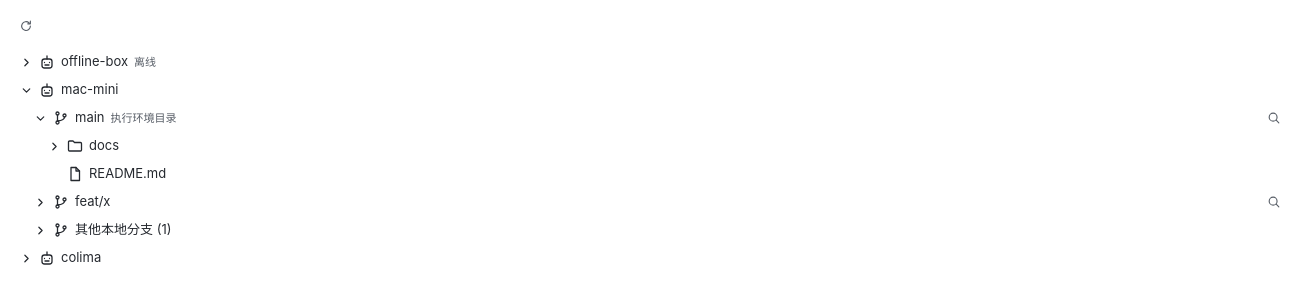
an offline worker can be expanded but is never queried
The image size is (1292, 308).
Expected: the text "README.md" is shown, [89,164,166,184]
Click the button "offline-box 离线": [95, 61] box [12,48,1288,76]
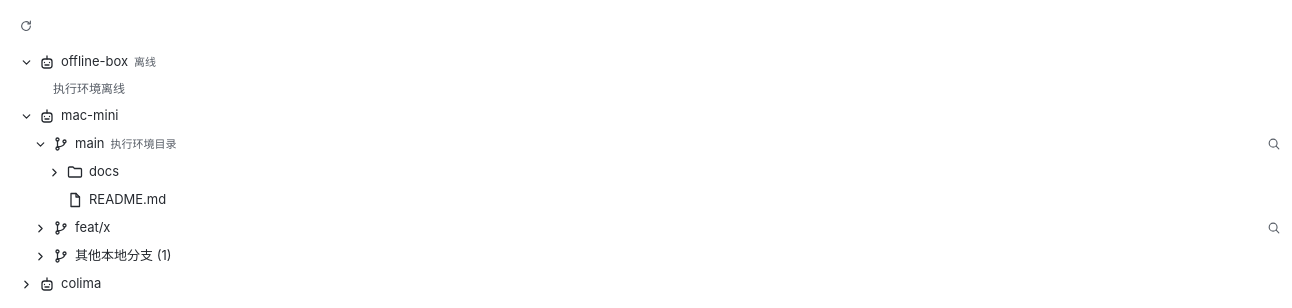
Expected: the text "执行环境离线" is shown, [53,81,125,96]
